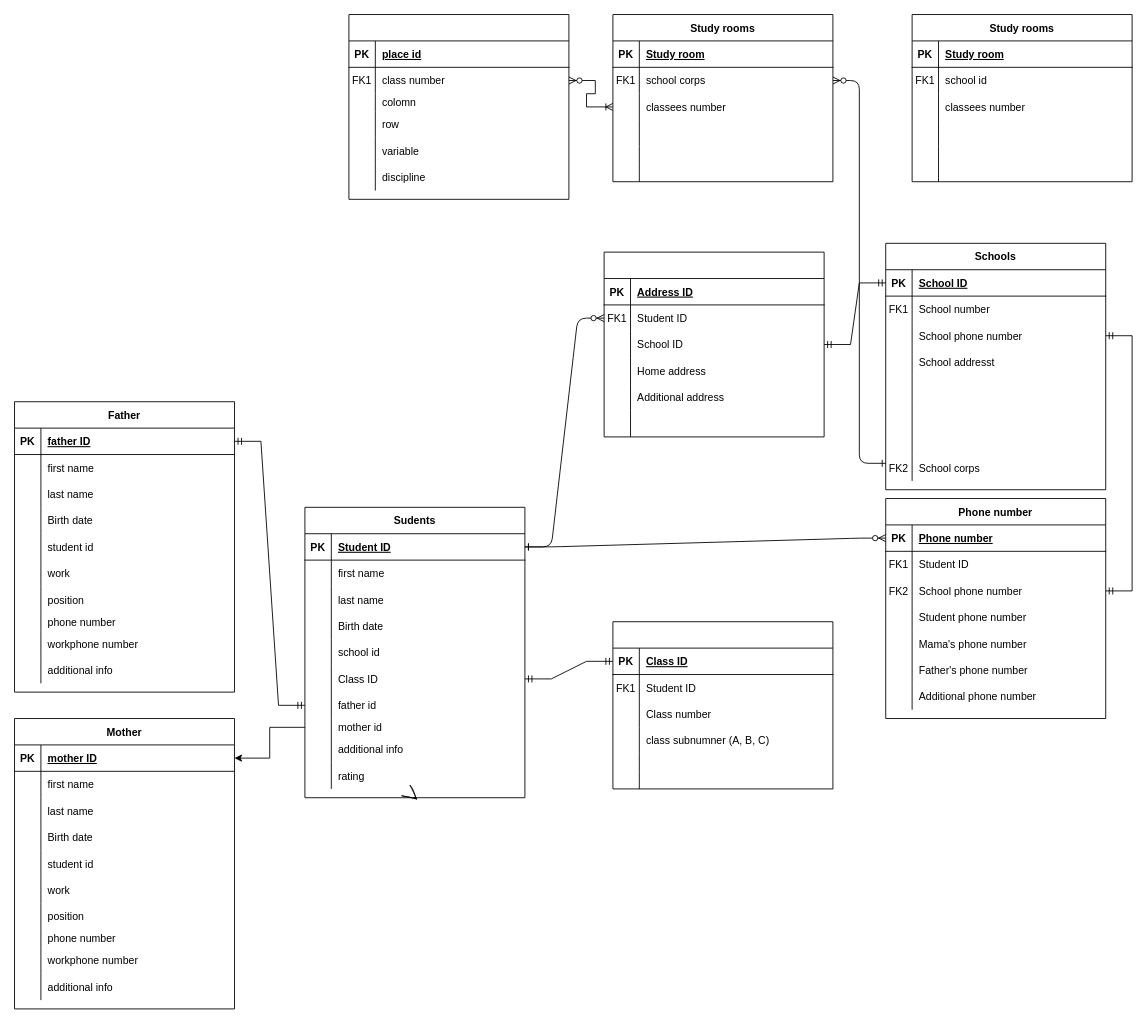
This 1147x1023 diagram has some shape labels left out. Here are the shapes that lost their labels. From the top down, the box of each, then its label:
(348, 14, 569, 199): Places
(603, 251, 824, 437): Addresses
(612, 621, 833, 789): Classes
